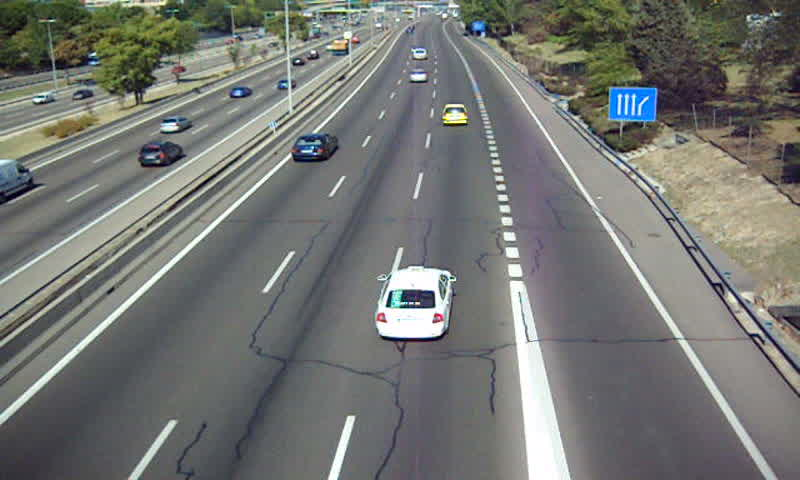car: (376, 266, 453, 339), (293, 135, 336, 161), (442, 104, 469, 128), (410, 67, 428, 82)
